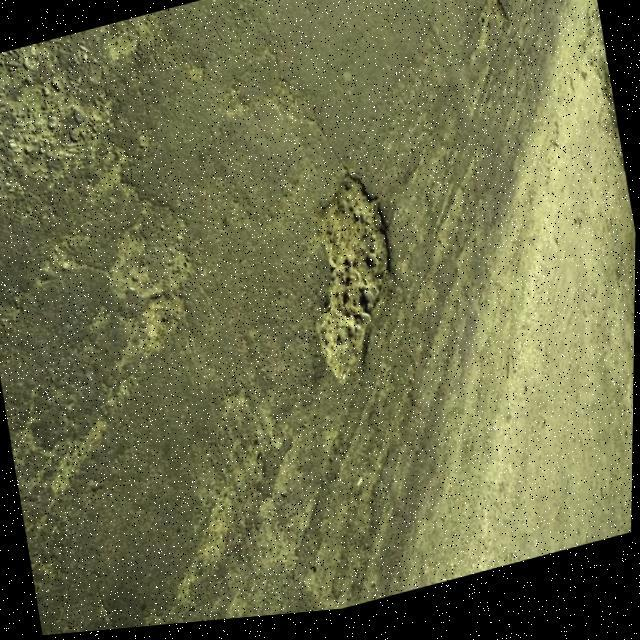pothole: (284, 164, 428, 398)
